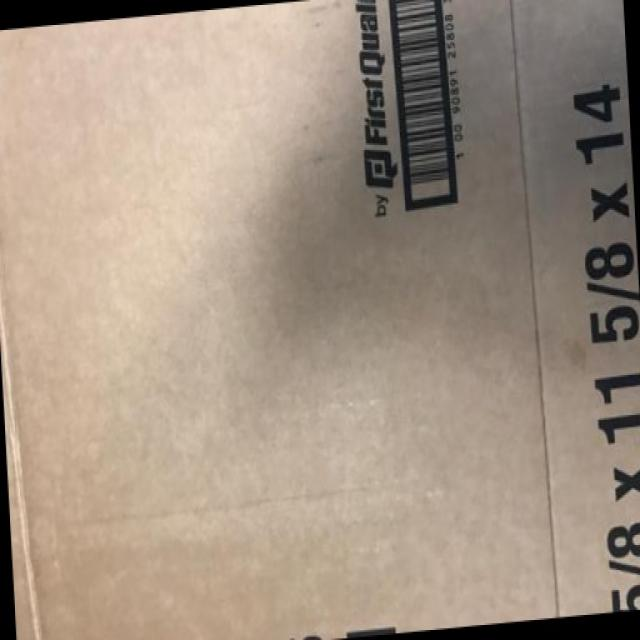carton: (141, 40, 568, 322)
